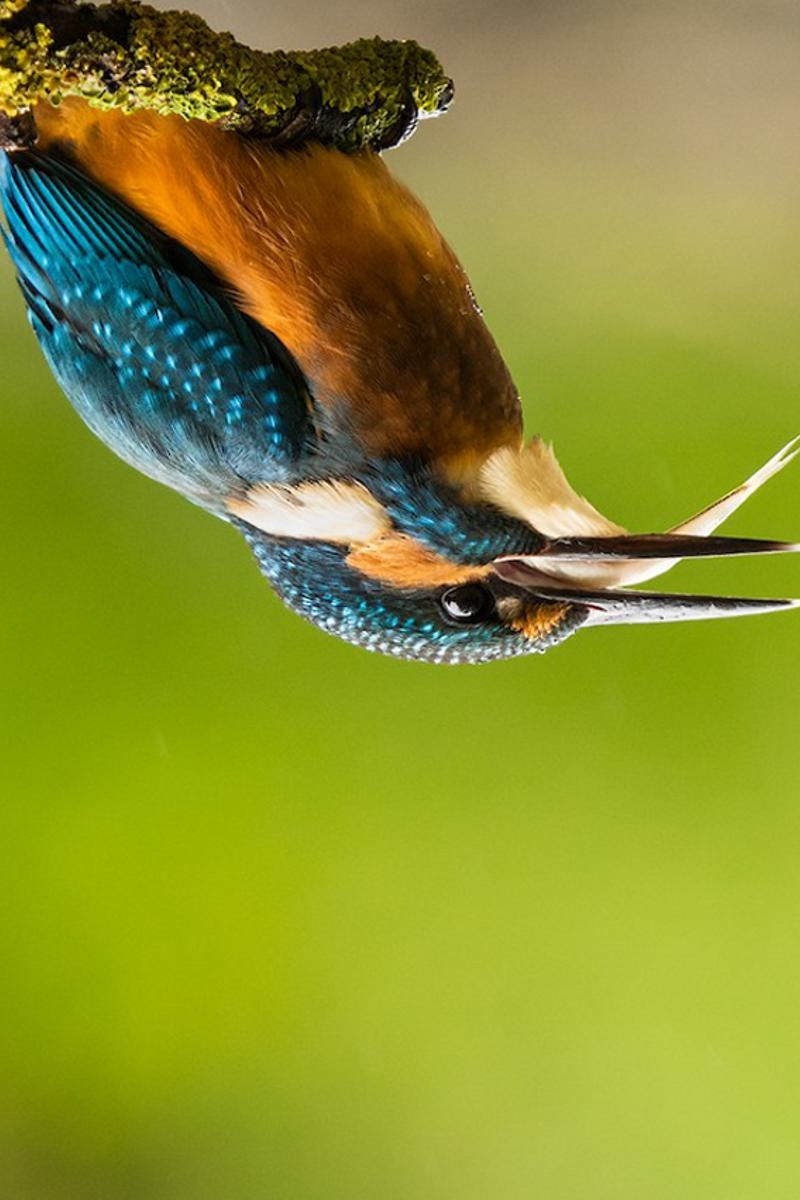kingfisher: (2, 60, 800, 739)
